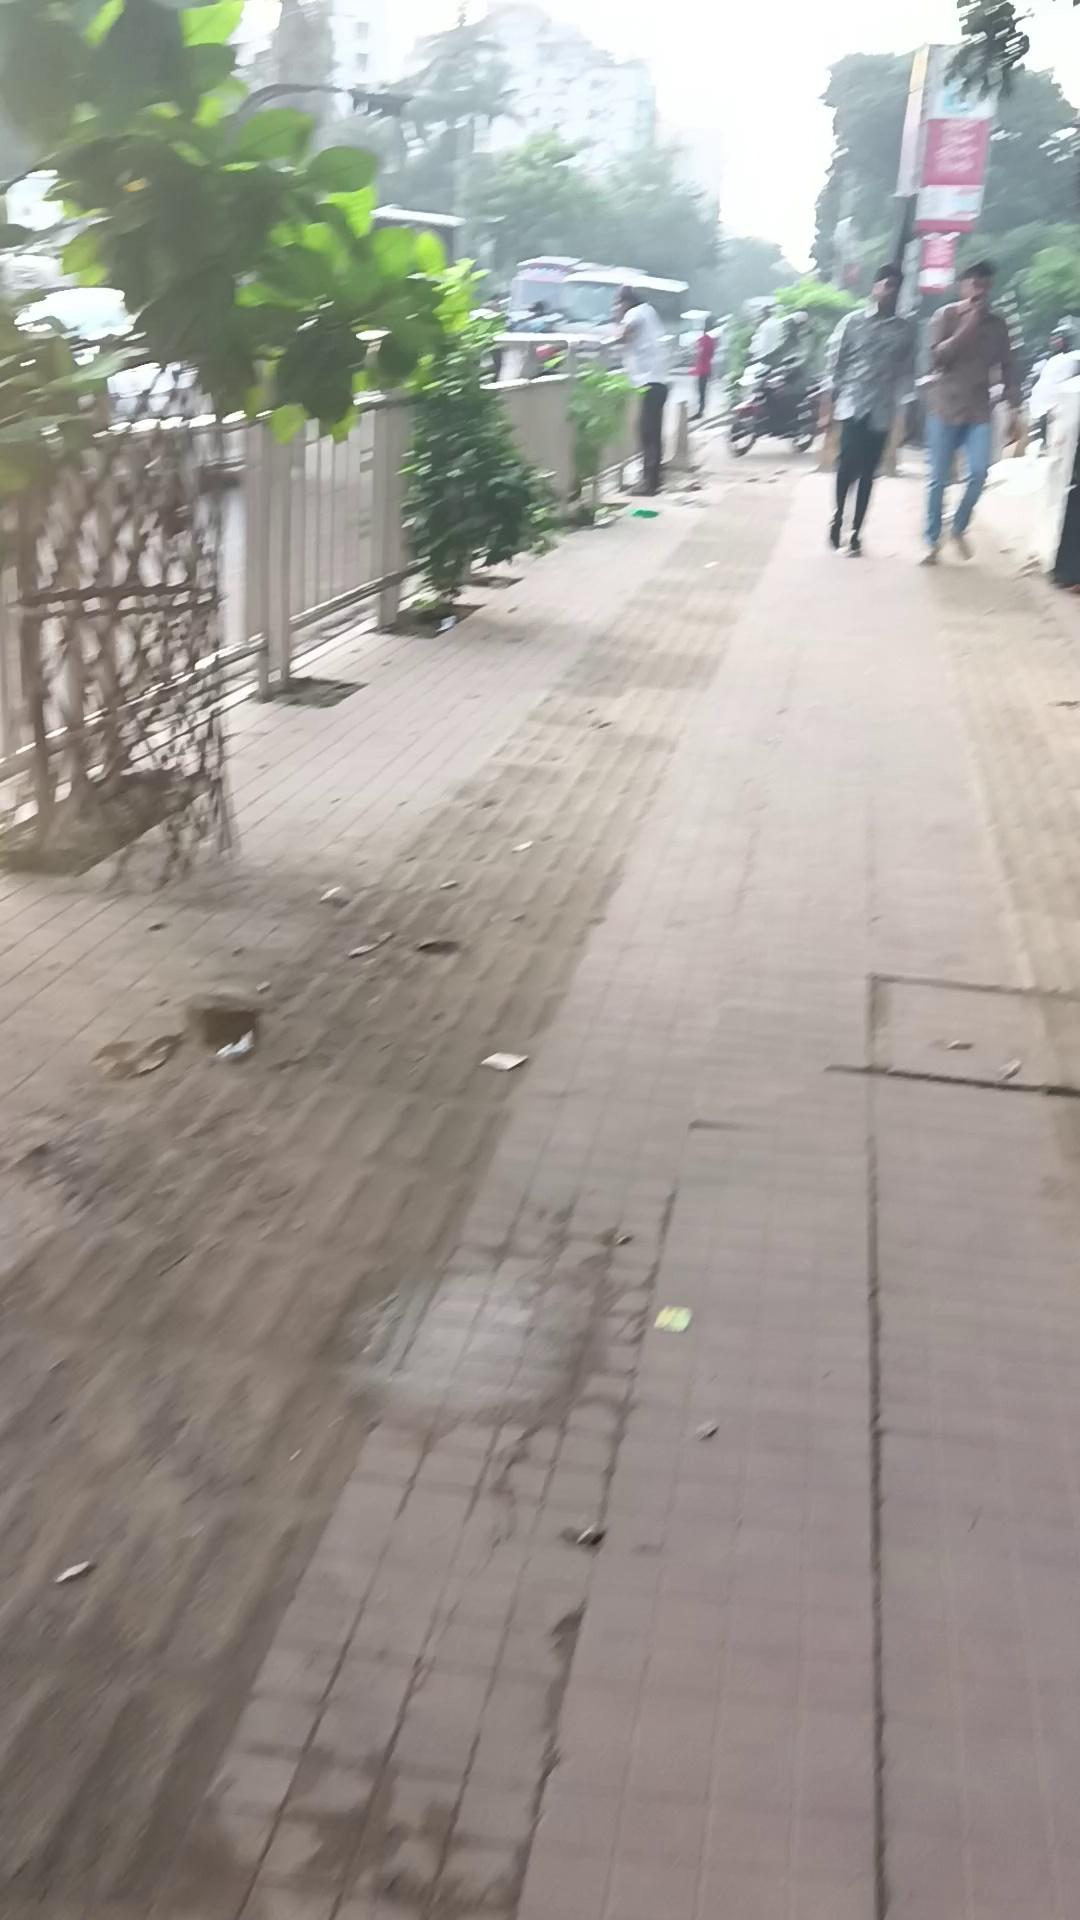Crosswalk: (858, 972, 890, 1915)
Light-pole: (725, 348, 824, 456)
Muddy road: (916, 258, 1025, 564), (815, 262, 918, 556), (607, 285, 670, 496), (688, 319, 716, 419)
